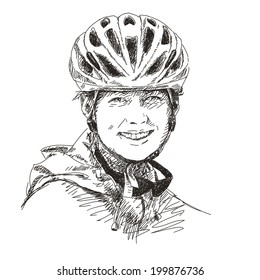helmet: (69, 13, 190, 163)
